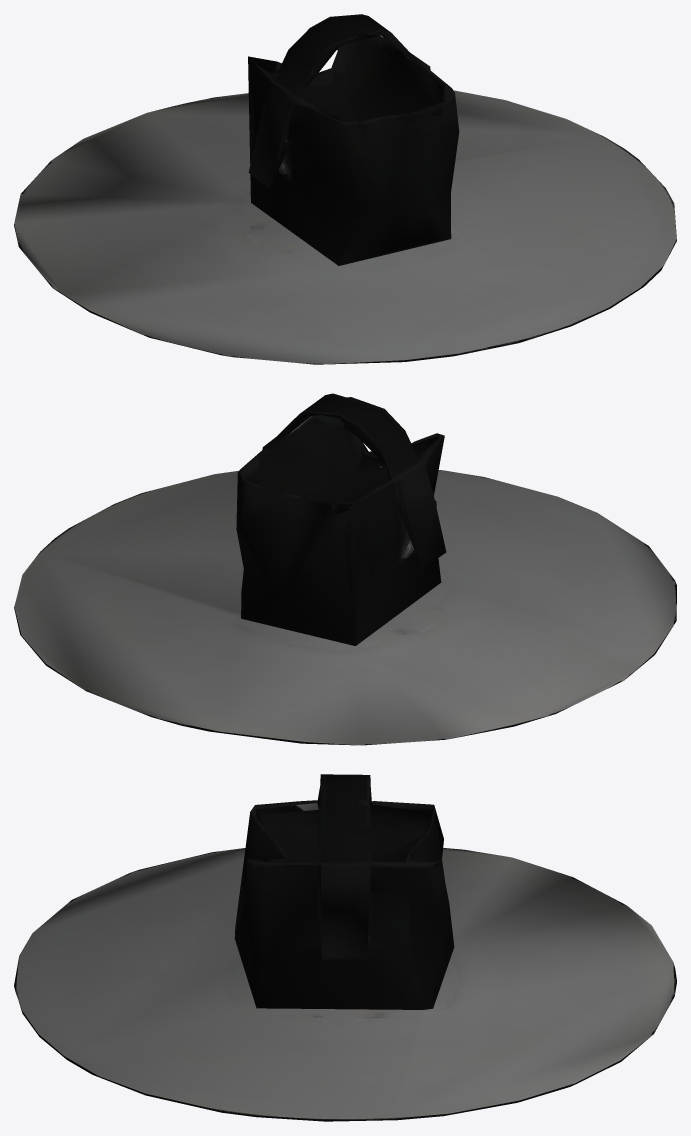
File: acessorios-extreme-simple.glb
3 renders of one model, top to bottom at view 1: azimuth 30°, elevation 25°; view 2: azimuth 150°, elevation 25°; view 3: azimuth 270°, elevation 25°, orthographic.
Visible parts, largest first — view 1: textured_mesh; view 2: textured_mesh; view 3: textured_mesh.
Boxes of the visible parts, x1,y1,x2,y2 form: textured_mesh: [14, 14, 676, 364]; textured_mesh: [14, 393, 676, 745]; textured_mesh: [14, 774, 676, 1121].
Bounding box in the file's own units: 1.99 × 0.6686 × 1.99.
1 material, 1 textured.
